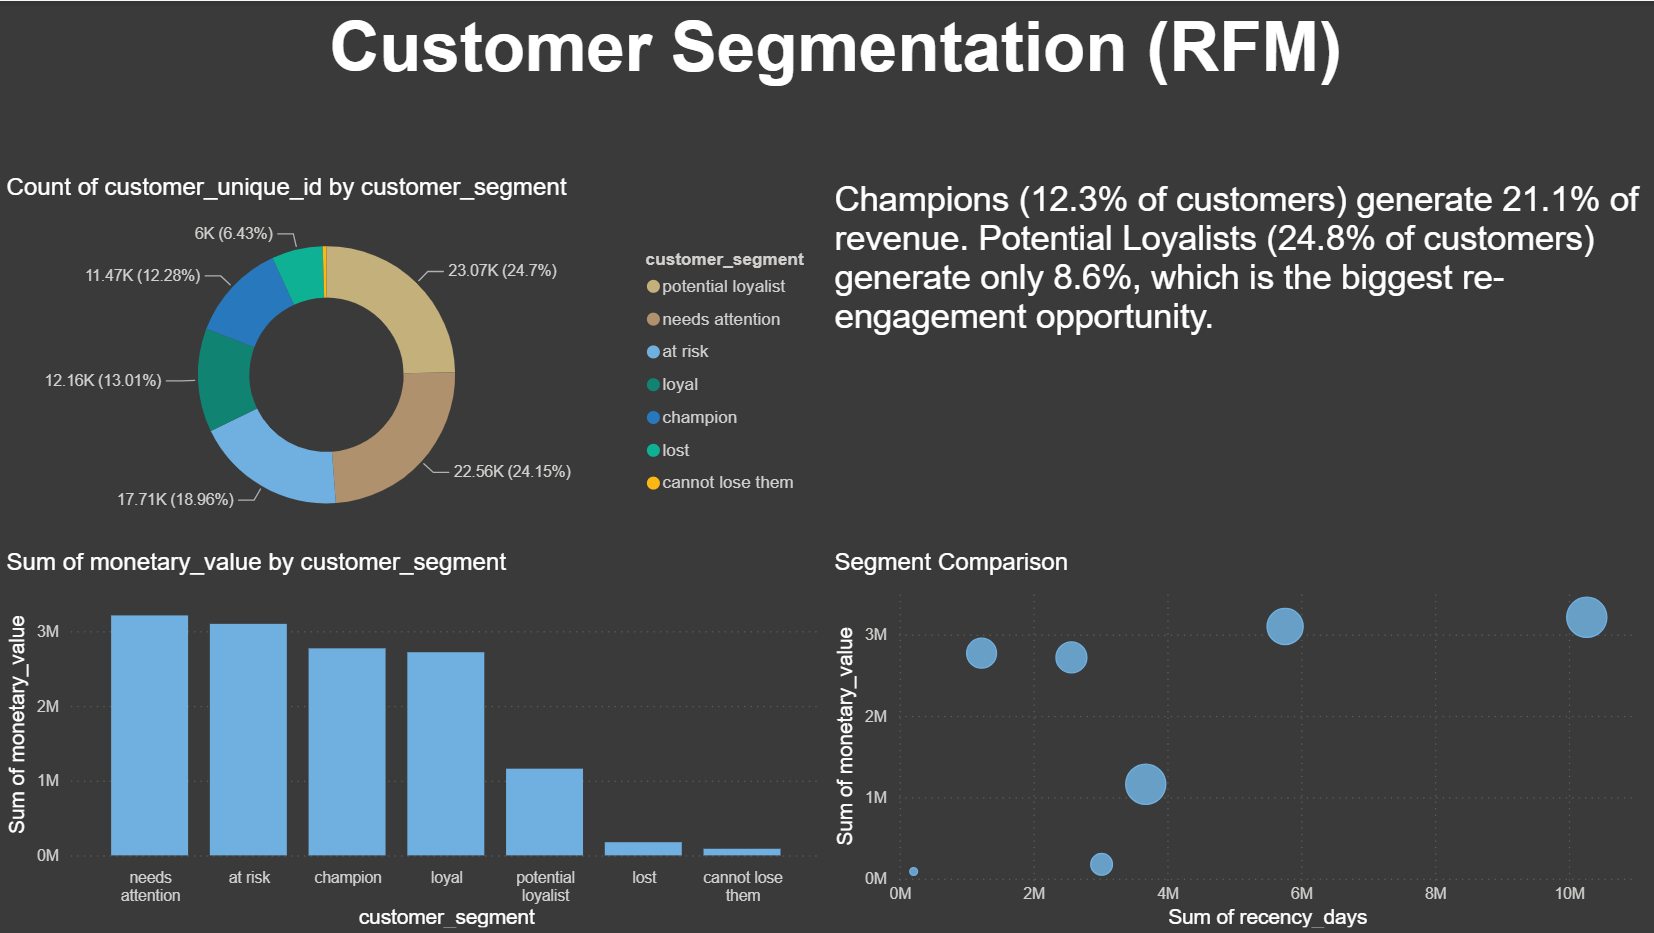

The dashboard page shown, as its layout file describes it:
{"tool":"powerbi","page":{"name":"Page 4","canvas":[1280,720],"ordinal":3},"visuals":[{"type":"textbox","box":[10.1,0,1270.3,132.8],"z":0},{"type":"donutChart","fields":{"Category":["customer_rfm.customer_segment"],"Y":["CountNonNull(customer_rfm.customer_unique_id)"]},"box":[0,132.8,639.7,289.7],"z":1000},{"type":"clusteredColumnChart","fields":{"Category":["customer_rfm.customer_segment"],"Y":["Sum(customer_rfm.monetary_value)"]},"box":[0,422.4,639.7,297.7],"z":2000},{"type":"scatterChart","title":"Segment Comparison","fields":{"X":["Sum(customer_rfm.recency_days)"],"Y":["Sum(customer_rfm.monetary_value)"],"Category":["customer_rfm.customer_segment"],"Size":["Sum(customer_rfm.frequency)"]},"box":[639.7,422.4,640.7,297.7],"z":3000},{"type":"textbox","box":[640,133,640,289],"z":4000}]}

Visuals, with their boxes in screenshot pixels (x1, y1, x2, y2), scaled from the page's 1280x720 canvas onto the 1654x933 screenshot:
textbox: pyautogui.locateOnScreen(13, 0, 1653, 172)
donutChart - customer_rfm.customer_segment x CountNonNull(customer_rfm.customer_unique_id): pyautogui.locateOnScreen(0, 172, 827, 547)
clusteredColumnChart - customer_rfm.customer_segment x Sum(customer_rfm.monetary_value): pyautogui.locateOnScreen(0, 547, 827, 932)
"Segment Comparison" scatterChart: pyautogui.locateOnScreen(827, 547, 1653, 932)
textbox: pyautogui.locateOnScreen(827, 172, 1653, 547)
